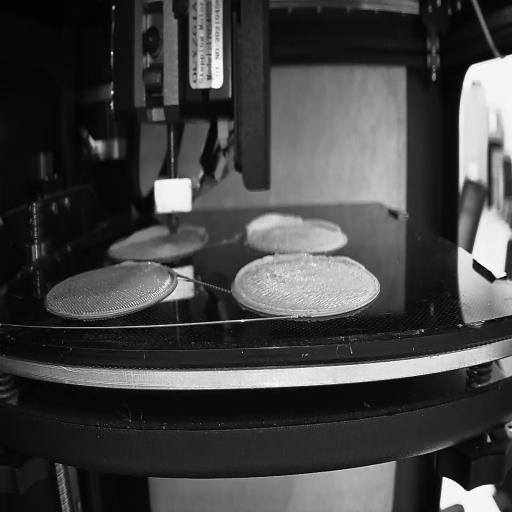over_extrusion: (234, 252, 310, 315), (242, 213, 304, 242), (110, 222, 167, 252), (331, 252, 366, 273), (308, 214, 342, 234), (180, 222, 213, 235), (116, 260, 139, 270)
